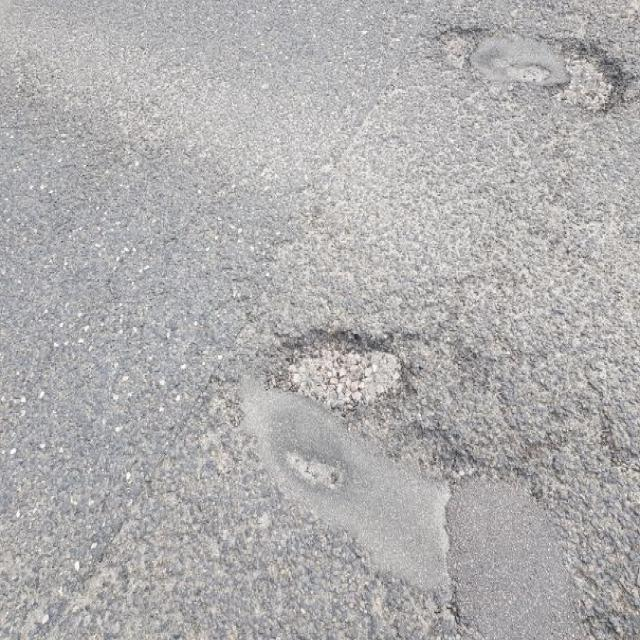Pothole: (430, 18, 629, 117), (260, 316, 418, 419)
